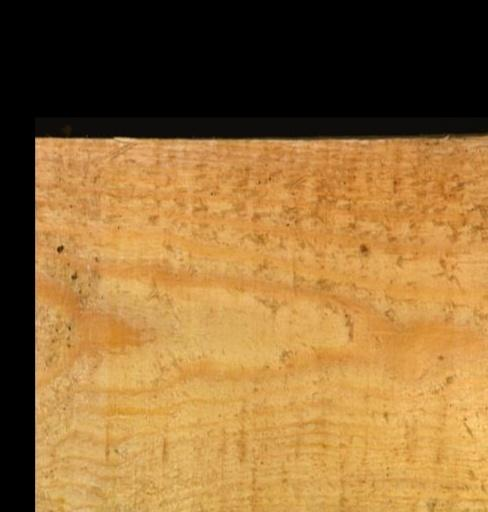small_knot: (358, 242, 370, 256)
